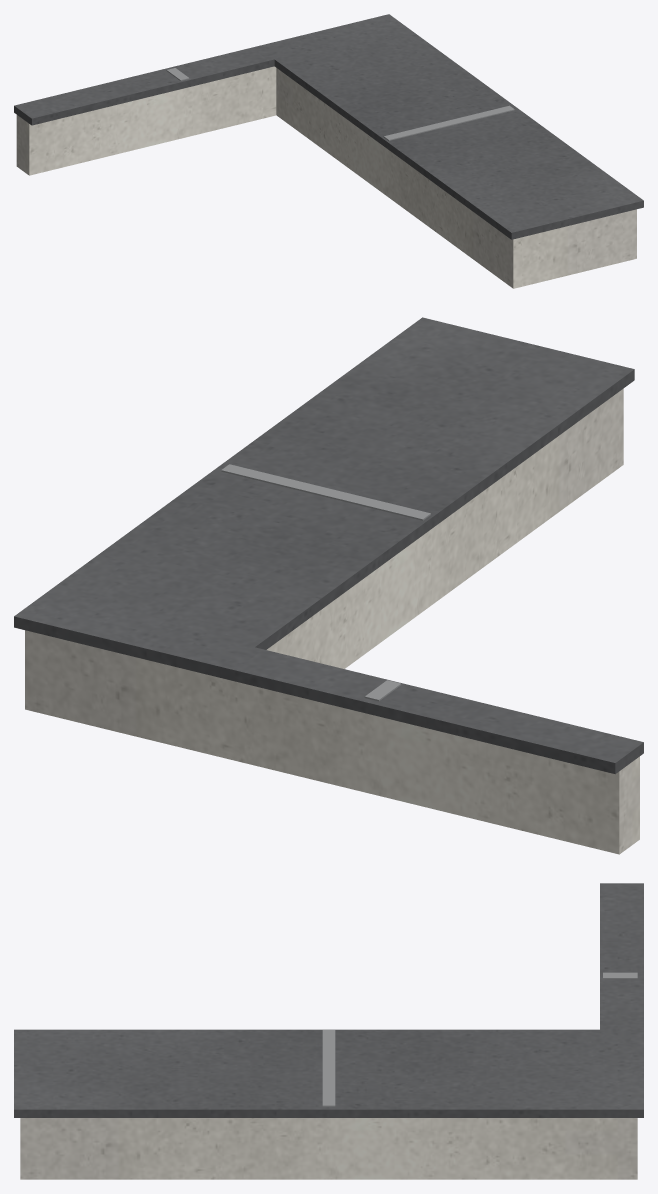
Rendered from floor_membrane_r_e1000.glb.
3 views of the same model, one above another, from view 1: azimuth 30°, elevation 25°; view 2: azimuth 150°, elevation 25°; view 3: azimuth 270°, elevation 25° (orthographic). The views are drawn at different scales.
Visible parts, largest first — view 1: floor_membrane_r_e1000_membrane, floor_membrane_r_e1000_plaster, floor_membrane_r_e1000_seam; view 2: floor_membrane_r_e1000_membrane, floor_membrane_r_e1000_plaster, floor_membrane_r_e1000_seam; view 3: floor_membrane_r_e1000_membrane, floor_membrane_r_e1000_plaster, floor_membrane_r_e1000_seam.
Boxes of the visible parts, bbox=[...] form: floor_membrane_r_e1000_membrane: bbox=[14, 14, 643, 239]; floor_membrane_r_e1000_plaster: bbox=[16, 66, 636, 288]; floor_membrane_r_e1000_seam: bbox=[166, 68, 514, 140]; floor_membrane_r_e1000_membrane: bbox=[14, 317, 643, 774]; floor_membrane_r_e1000_plaster: bbox=[25, 388, 639, 854]; floor_membrane_r_e1000_seam: bbox=[221, 464, 430, 701]; floor_membrane_r_e1000_membrane: bbox=[14, 883, 643, 1117]; floor_membrane_r_e1000_plaster: bbox=[20, 1118, 637, 1179]; floor_membrane_r_e1000_seam: bbox=[322, 972, 637, 1106].
Size of the model in its own units: 1.7 by 0.259 by 2.
Materials: 3 (2 with a texture image).
